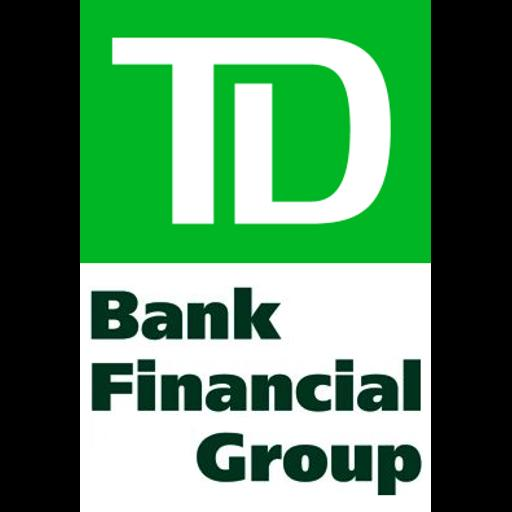TD Bank Group: (80, 0, 431, 512)
